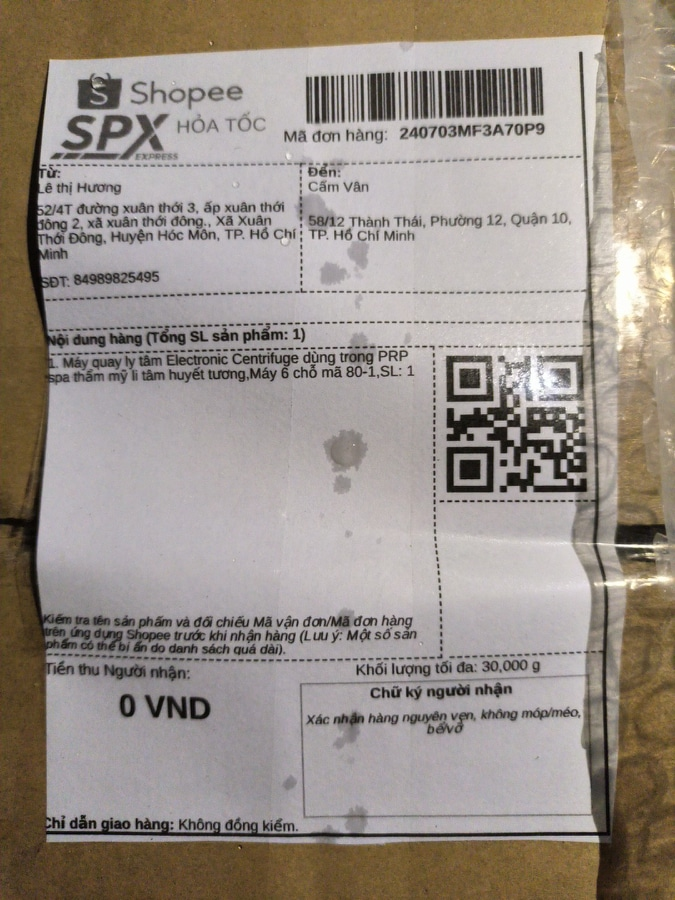pod: (25, 52, 621, 846)
